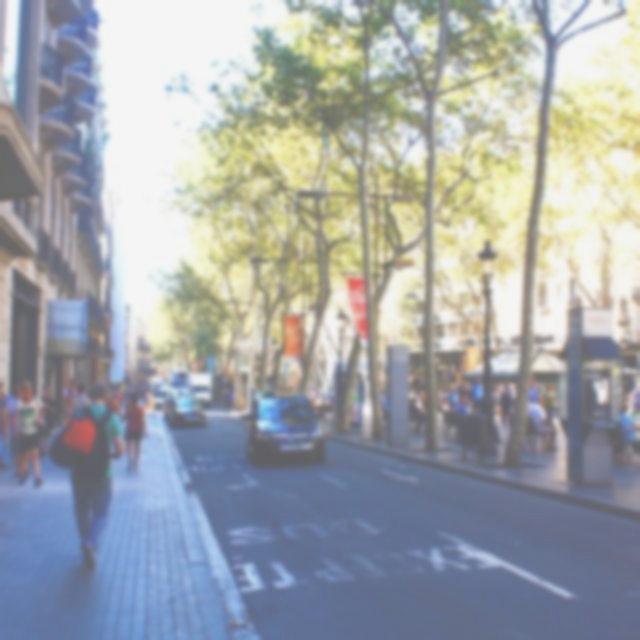pessoa: (45, 380, 126, 573), (13, 381, 46, 488), (117, 392, 153, 474), (0, 379, 27, 480), (276, 380, 340, 418), (408, 380, 450, 437), (31, 382, 56, 458), (103, 379, 155, 415), (526, 394, 558, 452), (454, 376, 504, 409), (512, 379, 544, 415), (540, 382, 562, 434), (472, 408, 502, 445), (614, 403, 640, 442), (67, 383, 93, 421), (466, 376, 484, 416), (500, 379, 514, 427), (376, 384, 392, 424), (63, 376, 87, 398), (628, 382, 640, 423), (454, 395, 474, 416), (446, 386, 460, 412), (224, 390, 236, 410)
